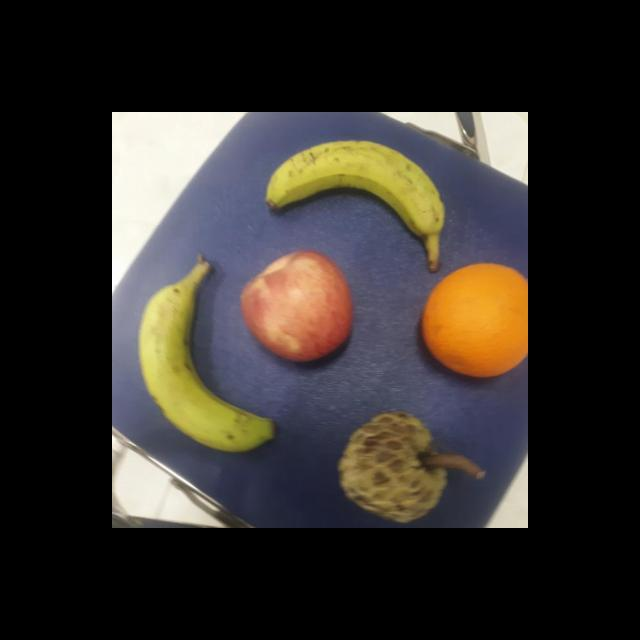Sakya fruit: (336, 408, 450, 526)
apple: (235, 246, 353, 370)
banana: (134, 262, 278, 455), (258, 132, 452, 238)
orange: (412, 258, 528, 384)
